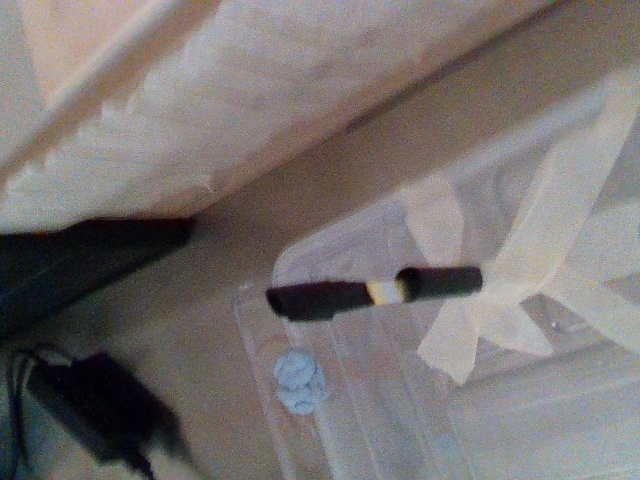test_strip: (265, 278, 403, 324)
